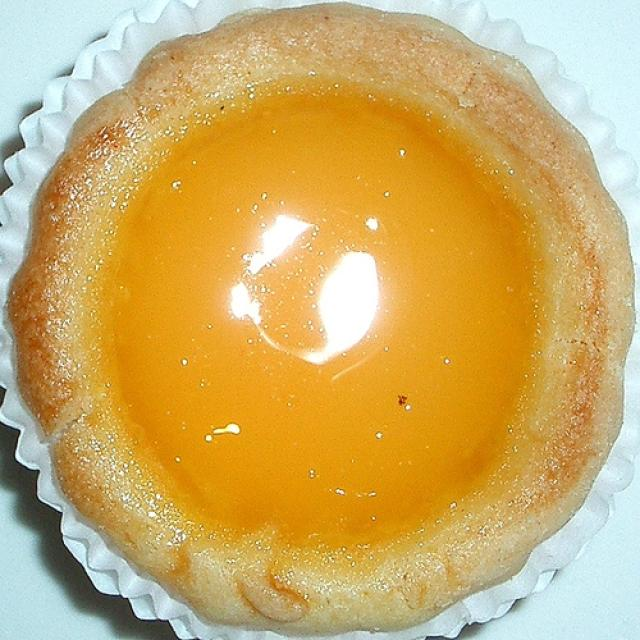炸货点心: (32, 25, 603, 616)
蛋糕甜品: (32, 25, 603, 616)
